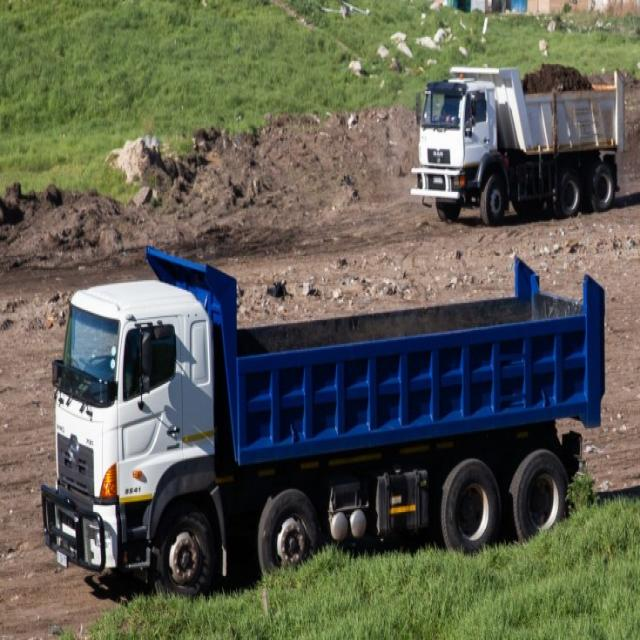Heavy Duty Truck: (40, 246, 609, 606), (409, 58, 630, 229)
